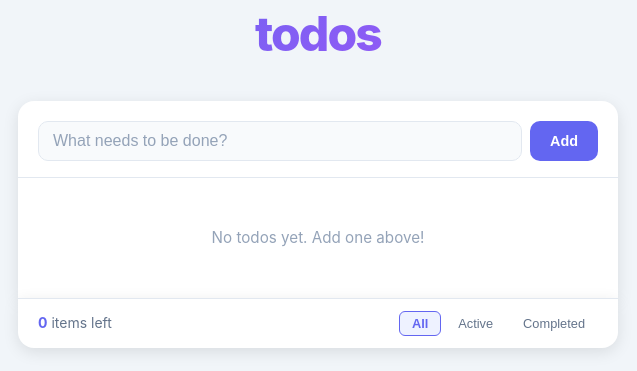
Test: App › adding todos › adds multiple todos
Type "First todo" into the field named "new todo text". click: (280, 141)
box: [38, 121, 522, 161]
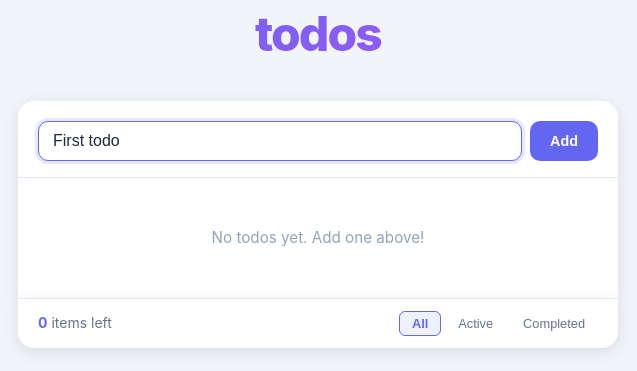
Click the button with aria-label "add todo". click: (564, 141)
box: [530, 121, 598, 161]
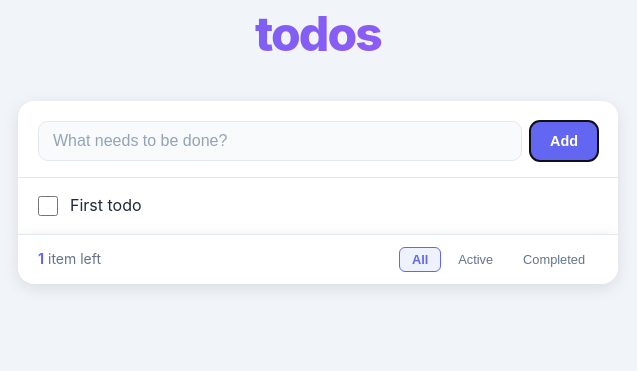
Type "Second todo" into the field named "new todo text". click: (280, 141)
box: [38, 121, 522, 161]
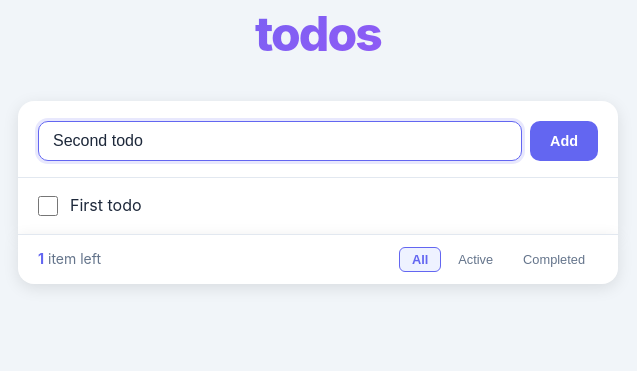
Click the button with aria-label "add todo". click: (564, 141)
box: [530, 121, 598, 161]
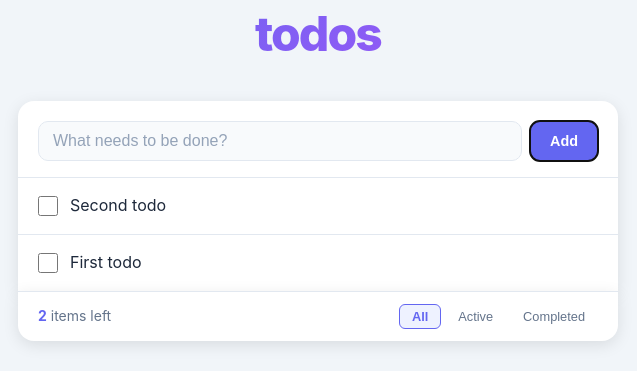
Now the text "First todo" is shown, box [70, 252, 142, 272]
Now the text "Second todo" is shown, box [70, 195, 166, 215]
